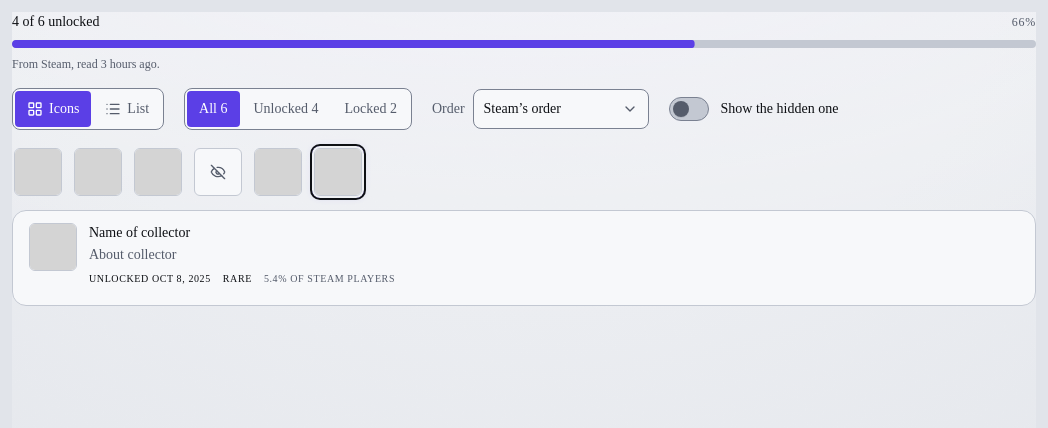
Achievements › keeps a hidden one’s details out of sight until it is unlocked, or I ask to see them
Check: the text "4 of 6 unlocked" is shown, box [12,12,100,32]
Check: the option named "Hidden achievement, Locked" is shown, box [192,146,244,198]
Click the radio button labelled "List": (127, 109) [93,91,161,127]
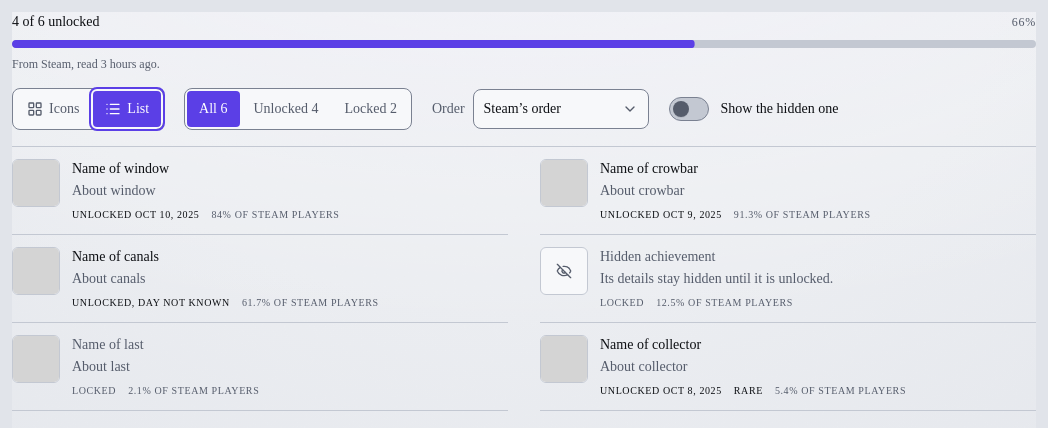
Check: the text "Name of lab" is not shown
Check: the text "Hidden achievement" is shown, box [600,249,716,264]
Click the switch labelled "Show the hidden one": (689, 109) [669,97,709,121]
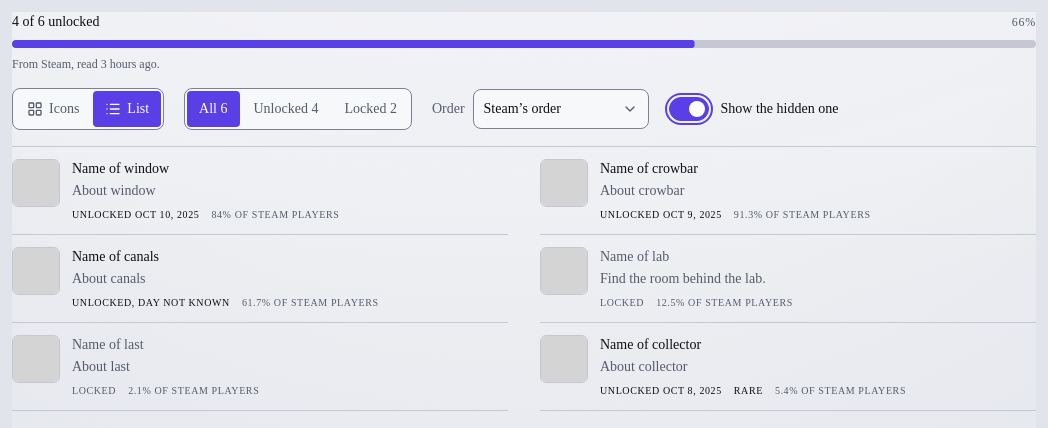
Check: the text "Name of lab" is shown, box [600,249,669,264]
Check: the text "Find the room behind the lab." is shown, box [600,271,766,286]
